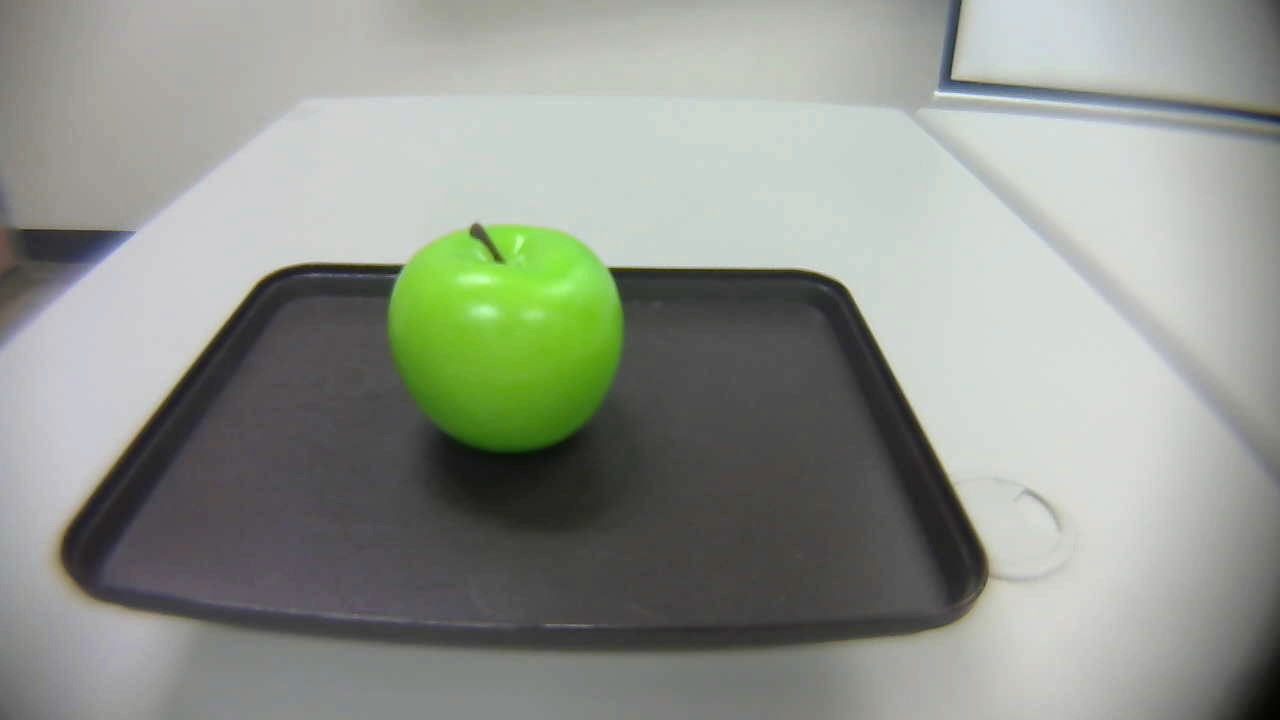green apple: (389, 221, 628, 453)
